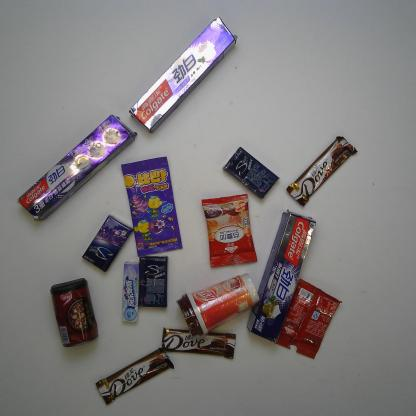Candy: (119, 154, 182, 258), (121, 258, 138, 324)
Canned Food: (48, 276, 99, 350)
Chocolate: (284, 134, 361, 209), (95, 348, 176, 407), (156, 327, 236, 361)
Gum: (221, 145, 280, 201), (82, 213, 136, 273), (138, 254, 170, 310)
Instant Drink: (274, 272, 344, 360), (176, 272, 262, 338), (201, 192, 258, 268)
Personal Hygiene: (128, 13, 240, 136), (16, 112, 138, 224), (246, 208, 318, 345)
